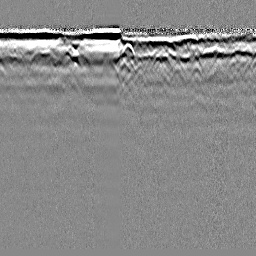cavity: (121, 42, 135, 56)
